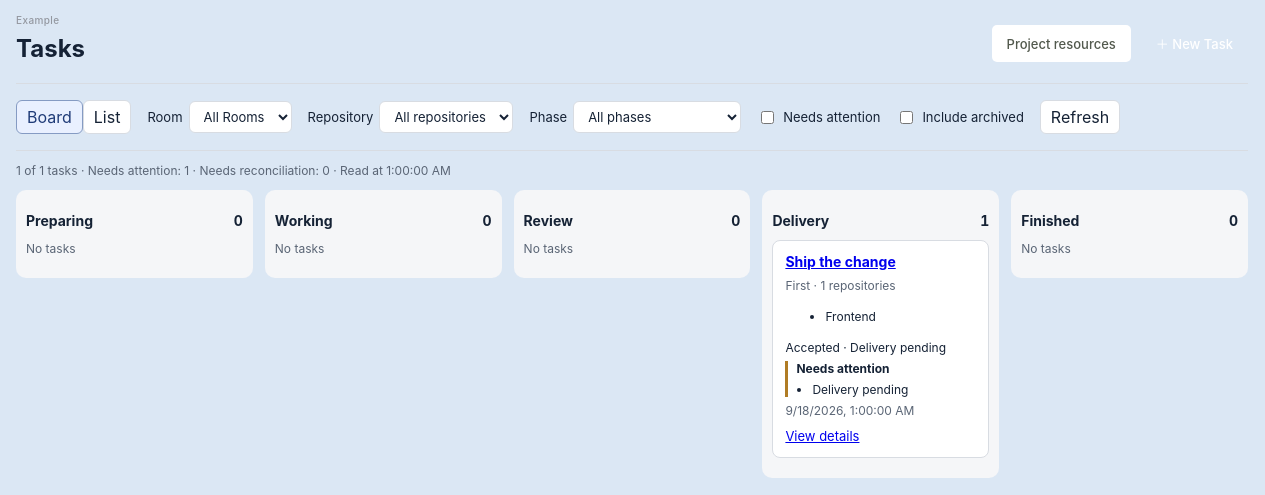
it: Task board shared read view › preserves filters and presentation in URL and restores browser back navigation
This screenshot has width=1265, height=495.
expect the link "Ship the change" is shown: met, box [785,253,896,270]
Step 1. Select "Second" in the dropdown labelled "Room" → (240, 117), box [188,101,292,133]
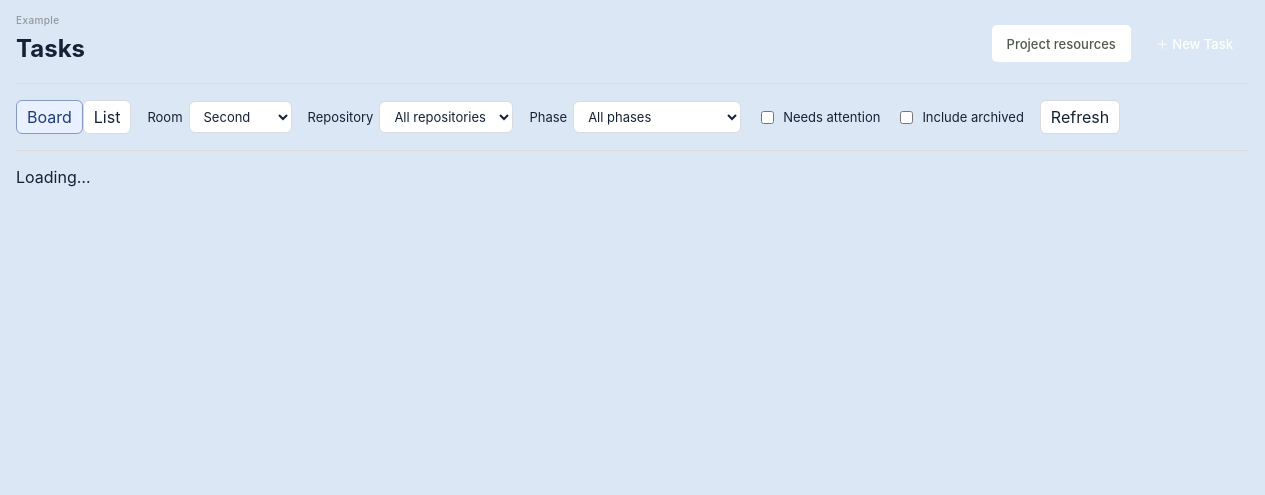
Step 2. Click the button "List" → (107, 117), box [83,100,131,134]
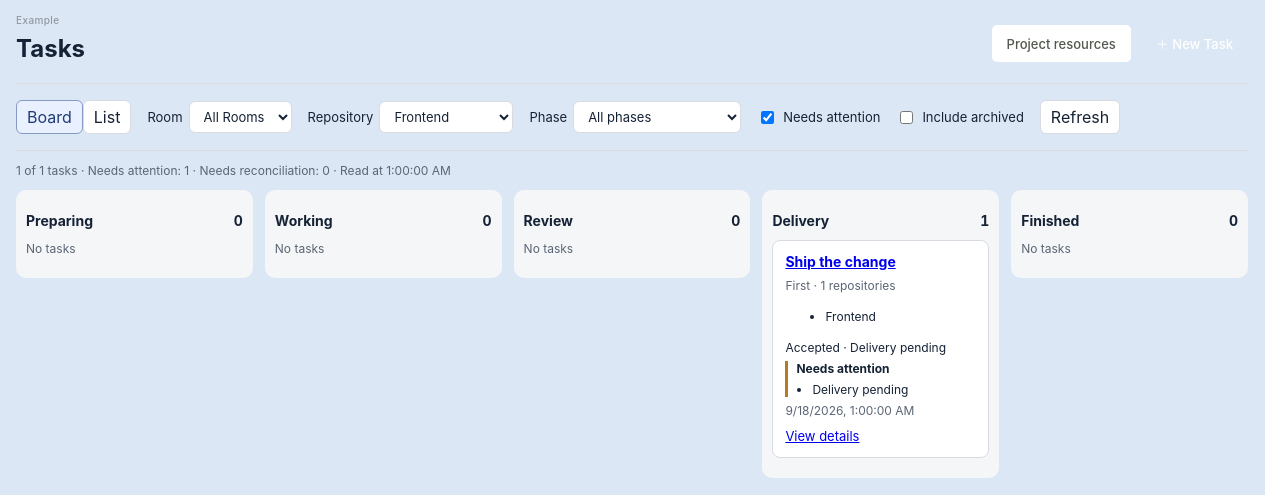
expect the checkbox labelled "Needs attention" is checked: met, box [761,110,774,124]
